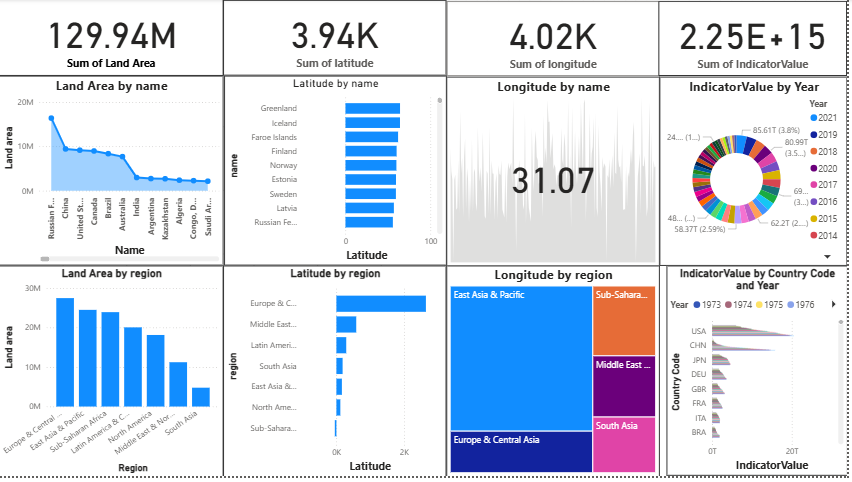

This screenshot's page, from the dashboard's own definition file:
{"tool":"powerbi","page":{"name":"Page 1","canvas":[1280,720],"ordinal":0},"visuals":[{"type":"areaChart","title":"Land Area by name","fields":{"Category":["Countries.name"],"Y":["Sum(Countries.Land Area)"]},"box":[0,115.8,338.3,286.5],"z":0},{"type":"card","fields":{"Values":["Sum(Countries.Land Area)"]},"box":[0,0,338.3,115.8],"z":1000},{"type":"clusteredColumnChart","title":"Land Area by region","fields":{"Category":["Countries.region"],"Y":["Sum(Countries.Land Area)"]},"box":[0,402.3,338.3,318.5],"z":2000},{"type":"card","fields":{"Values":["Sum(Countries.latitude)"]},"box":[338.3,1.5,336.8,114.3],"z":2001},{"type":"card","fields":{"Values":["Sum(Countries.longitude)"]},"box":[675.8,3.8,321.9,112.9],"z":2002},{"type":"barChart","title":"Latitude by name","fields":{"Category":["Countries.name"],"Y":["Sum(Countries.latitude)"]},"box":[339.8,115.8,335.2,286.5],"z":2003},{"type":"clusteredBarChart","title":"Latitude by region","fields":{"Category":["Countries.region"],"Y":["Sum(Countries.latitude)"]},"box":[338.3,402.3,336.8,318.5],"z":2004},{"type":"kpi","title":"Longitude by name","fields":{"TrendLine":["Countries.name"],"Indicator":["Sum(Countries.longitude)"]},"box":[675,117.3,321.5,286.5],"z":2005},{"type":"treemap","title":"Longitude by region","fields":{"Group":["Countries.region"],"Values":["Sum(Countries.longitude)"]},"box":[675,402.3,321.5,318.5],"z":2006},{"type":"donutChart","title":"IndicatorValue by Year","fields":{"Category":["Indicators.Year"],"Y":["Sum(Indicators.IndicatorValue)"]},"box":[996.6,117.3,283.4,285],"z":2007},{"type":"clusteredBarChart","title":"IndicatorValue by Country Code and Year","fields":{"Series":["Indicators.Year"],"Category":["Indicators.Country Code"],"Y":["Sum(Indicators.IndicatorValue)"]},"box":[1007,403,273,317],"z":2008},{"type":"card","fields":{"Values":["Sum(Indicators.IndicatorValue)"]},"box":[995.8,3.8,284.2,112.9],"z":2009}]}

Visuals, with their boxes in screenshot pixels (x1, y1, x2, y2), scaled from the page's 1280x720 canvas onto the 852x482 screenshot:
"Land Area by name" areaChart: <region>0, 78, 225, 269</region>
card - Sum(Countries.Land Area): <region>0, 0, 225, 78</region>
"Land Area by region" clusteredColumnChart: <region>0, 269, 225, 481</region>
card - Sum(Countries.latitude): <region>225, 1, 449, 78</region>
card - Sum(Countries.longitude): <region>450, 3, 664, 78</region>
"Latitude by name" barChart: <region>226, 78, 449, 269</region>
"Latitude by region" clusteredBarChart: <region>225, 269, 449, 481</region>
"Longitude by name" kpi: <region>449, 79, 663, 270</region>
"Longitude by region" treemap: <region>449, 269, 663, 481</region>
"IndicatorValue by Year" donutChart: <region>663, 79, 851, 269</region>
"IndicatorValue by Country Code and Year" clusteredBarChart: <region>670, 270, 851, 481</region>
card - Sum(Indicators.IndicatorValue): <region>663, 3, 851, 78</region>
